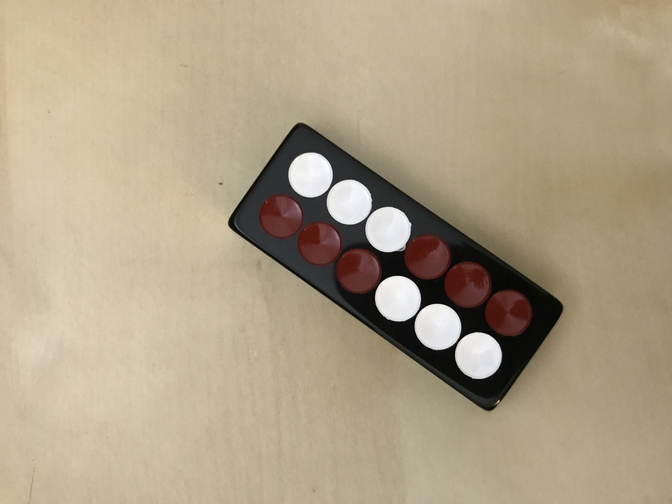heaven: (225, 120, 566, 413)
